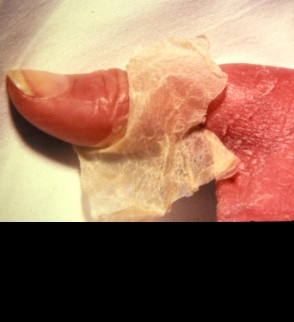SJS-TEN: (0, 23, 294, 223)
